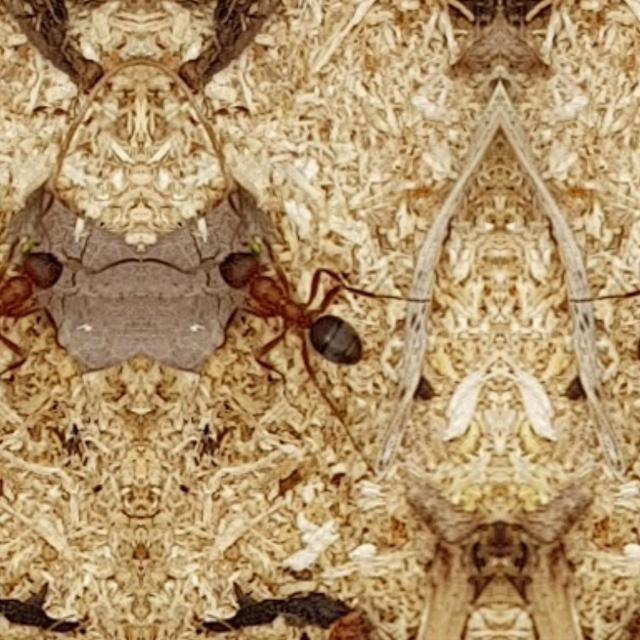Formica: (202, 207, 404, 379), (0, 207, 76, 379), (594, 207, 640, 379)
